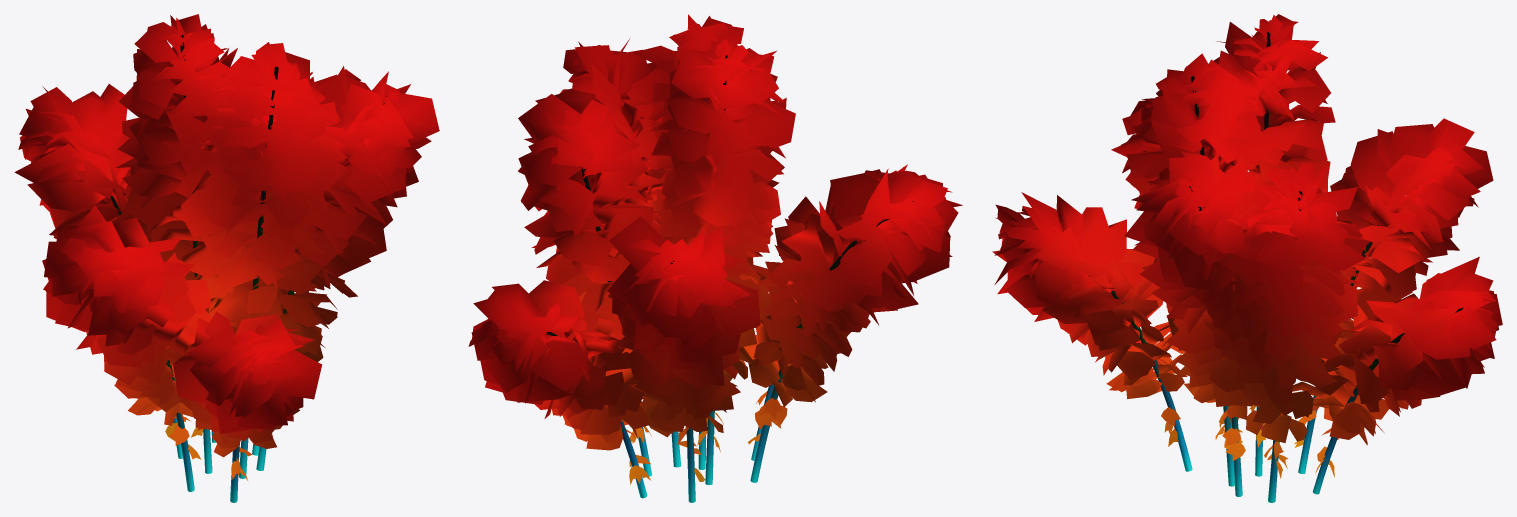
Rendered from Bamboo10.fbx.
3 renders of one model, left to right at view 1: azimuth 30°, elevation 25°; view 2: azimuth 150°, elevation 25°; view 3: azimuth 270°, elevation 25°, orthographic.
Parts seen in each view (by area): view 1: Bamboo10_LOD0; view 2: Bamboo10_LOD0; view 3: Bamboo10_LOD0.
Boxes of the visible parts, x1,y1,x2,y2 form: Bamboo10_LOD0: [14, 14, 439, 502]; Bamboo10_LOD0: [468, 14, 962, 502]; Bamboo10_LOD0: [992, 14, 1502, 502].
Size of what is drawn, in the model's own units: 891 by 1028 by 1058.
